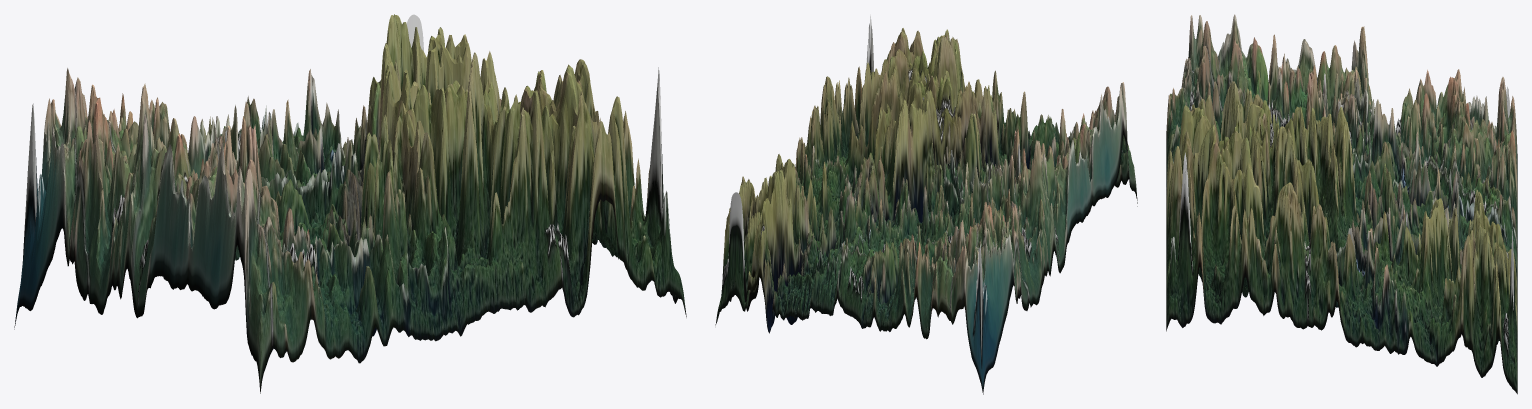
File: terrain-lod2.glb
3 views of the same model, side by side, from view 1: azimuth 30°, elevation 25°; view 2: azimuth 150°, elevation 25°; view 3: azimuth 270°, elevation 25° (orthographic). The views are drawn at different scales.
Visible parts, largest first — view 1: geometry_0; view 2: geometry_0; view 3: geometry_0.
Part boxes in pixels (bbox=[...]): geometry_0: bbox=[14, 14, 686, 393]; geometry_0: bbox=[715, 14, 1137, 394]; geometry_0: bbox=[1166, 14, 1517, 394].
Bounding box in the file's own units: 1534 × 1241 × 1534.
1 material, 1 textured.
